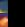star: (0, 0, 8, 13)
